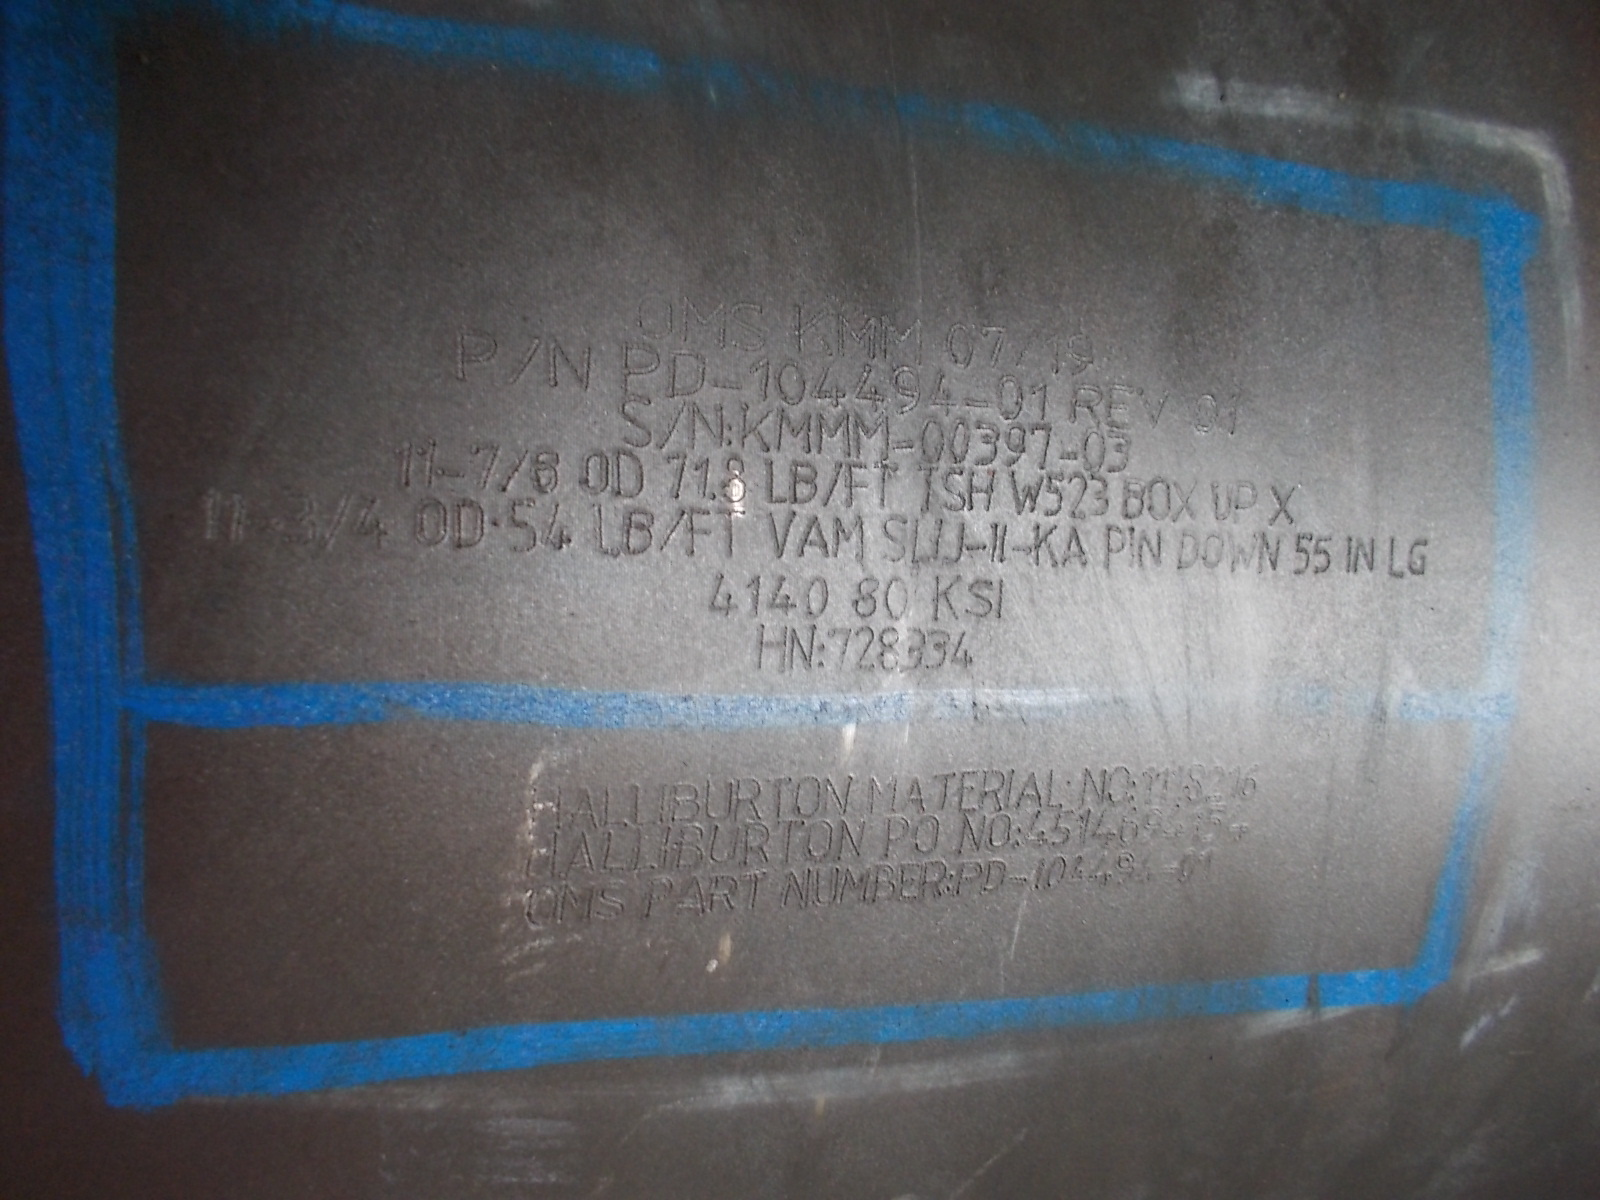character: (544, 332, 598, 395), (446, 321, 495, 389), (627, 289, 677, 347), (879, 308, 927, 366), (663, 343, 709, 402), (609, 395, 656, 450), (319, 476, 351, 555), (616, 342, 663, 396), (834, 305, 876, 366), (677, 297, 727, 347), (849, 361, 896, 413), (412, 492, 450, 556), (450, 494, 488, 556), (585, 499, 620, 565), (727, 297, 769, 353), (789, 305, 834, 355), (620, 498, 654, 565), (750, 623, 789, 681), (351, 495, 392, 551), (501, 332, 539, 389), (712, 505, 750, 563), (850, 408, 891, 461), (830, 511, 869, 565), (525, 782, 564, 834), (505, 498, 539, 558), (758, 509, 796, 563), (1105, 376, 1140, 434), (287, 490, 319, 553), (814, 408, 850, 461), (687, 400, 723, 451), (609, 446, 645, 498), (772, 408, 814, 454), (574, 442, 609, 498), (653, 504, 687, 560), (539, 499, 571, 558), (496, 440, 529, 497), (564, 778, 597, 834), (704, 570, 740, 621), (926, 574, 961, 625), (738, 401, 772, 454), (796, 511, 830, 563), (874, 508, 905, 567), (799, 570, 834, 620), (668, 774, 700, 828), (673, 821, 706, 875), (941, 323, 979, 369), (524, 881, 558, 933), (656, 397, 687, 455), (716, 454, 751, 503), (1405, 528, 1437, 581), (1067, 381, 1106, 425), (961, 575, 995, 625), (1138, 384, 1174, 431), (1009, 468, 1042, 519), (1173, 476, 1208, 524), (808, 363, 845, 407), (1265, 480, 1301, 526), (1066, 329, 1099, 379), (469, 436, 496, 495), (995, 373, 1029, 421), (1225, 524, 1256, 576), (530, 440, 558, 498), (684, 505, 712, 563), (1062, 519, 1091, 575), (746, 347, 776, 400), (1031, 519, 1061, 572), (979, 320, 1010, 371), (1192, 388, 1223, 439), (220, 487, 246, 550), (740, 821, 774, 867), (834, 819, 868, 866), (787, 456, 816, 511), (939, 461, 968, 516), (968, 461, 997, 516), (774, 358, 806, 406), (197, 484, 220, 550), (700, 774, 733, 822), (733, 776, 766, 824), (523, 832, 556, 880), (595, 879, 631, 921), (558, 881, 595, 924), (600, 778, 630, 829), (760, 455, 787, 511), (878, 621, 905, 679), (1107, 427, 1140, 474), (762, 774, 792, 824), (674, 875, 709, 918), (821, 773, 853, 821), (1136, 523, 1164, 577), (1099, 518, 1125, 575), (852, 621, 878, 678), (792, 773, 821, 824), (1170, 529, 1201, 579), (627, 824, 658, 874), (775, 819, 805, 868), (767, 574, 799, 620), (897, 770, 929, 817), (780, 863, 811, 910), (912, 460, 939, 516), (740, 568, 767, 621), (789, 623, 816, 676), (706, 821, 740, 863), (954, 813, 988, 856), (871, 460, 901, 508), (1010, 326, 1043, 371), (863, 771, 896, 816), (998, 418, 1027, 468), (656, 451, 685, 500), (882, 572, 911, 621), (951, 630, 981, 677), (1027, 418, 1053, 471), (818, 458, 844, 511), (630, 776, 656, 829), (1380, 529, 1405, 585), (850, 577, 882, 621), (643, 874, 674, 918), (894, 364, 923, 412), (804, 821, 834, 866), (1146, 470, 1172, 524), (826, 624, 852, 678), (945, 415, 973, 464), (595, 831, 627, 872), (740, 866, 769, 913), (929, 368, 955, 418), (973, 415, 998, 468), (843, 458, 869, 508), (564, 831, 595, 875), (1073, 766, 1107, 805), (838, 867, 872, 906), (1256, 529, 1284, 577), (707, 872, 740, 913), (912, 813, 941, 858), (412, 434, 436, 488), (1201, 524, 1225, 579), (1014, 768, 1044, 811), (905, 517, 930, 567), (903, 626, 927, 679), (883, 816, 912, 858), (930, 766, 956, 813), (811, 863, 839, 908), (918, 416, 944, 464), (1208, 475, 1233, 523), (1121, 476, 1146, 524), (942, 516, 968, 563), (927, 626, 951, 677), (921, 855, 946, 903), (1042, 466, 1065, 519), (956, 764, 980, 813), (1233, 475, 1256, 527), (1228, 804, 1257, 845), (1081, 427, 1107, 471), (1089, 473, 1112, 521), (389, 437, 412, 488), (1311, 529, 1334, 580), (1180, 763, 1208, 803), (1223, 392, 1249, 436), (1029, 377, 1054, 421), (685, 455, 709, 500), (1353, 529, 1376, 577), (988, 813, 1013, 856), (981, 856, 1007, 899), (981, 766, 1004, 813), (1041, 766, 1065, 811), (1067, 471, 1089, 521), (1117, 805, 1143, 847), (1042, 330, 1065, 376), (1028, 809, 1051, 855), (897, 860, 921, 903), (1291, 529, 1311, 580), (1203, 804, 1228, 845), (1089, 850, 1114, 890), (956, 858, 981, 899), (1051, 809, 1077, 846), (1095, 805, 1117, 847), (1107, 765, 1130, 805), (872, 862, 894, 903), (1112, 848, 1136, 885), (1134, 845, 1155, 885), (1199, 845, 1221, 884), (1178, 845, 1199, 884), (1206, 763, 1227, 800), (433, 458, 464, 484), (706, 376, 746, 395), (1047, 853, 1066, 894), (1243, 764, 1264, 800), (1154, 764, 1172, 804), (1138, 763, 1154, 805), (1004, 764, 1018, 813), (658, 824, 671, 874), (1078, 807, 1095, 846), (995, 575, 1007, 629), (930, 517, 942, 563), (1125, 523, 1136, 575), (888, 434, 918, 453), (1230, 766, 1243, 800), (658, 782, 668, 828), (1034, 857, 1047, 894), (1343, 534, 1353, 577), (814, 640, 826, 673), (1058, 447, 1080, 466), (963, 395, 989, 410), (964, 539, 986, 556), (1007, 542, 1031, 557), (1007, 874, 1031, 887), (723, 422, 734, 447), (946, 871, 957, 896), (1128, 776, 1138, 804), (488, 513, 501, 532), (1013, 824, 1023, 850), (1196, 811, 1203, 834), (708, 487, 716, 503), (558, 872, 564, 880)
